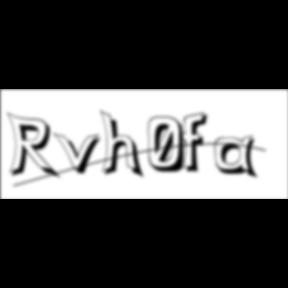0: (148, 115, 192, 174)
R: (7, 112, 64, 182)
a: (215, 135, 263, 182)
f: (180, 111, 214, 175)
h: (101, 108, 148, 182)
v: (53, 131, 107, 177)
